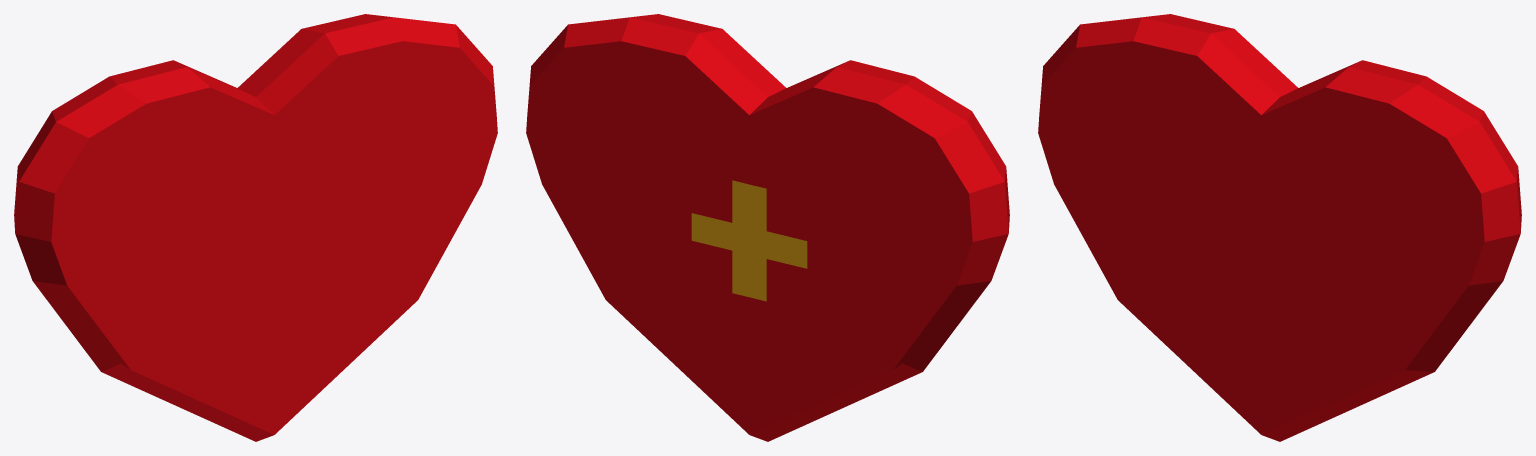
The model's file is Coracao.fbx.
3 renders of one model, left to right at view 1: azimuth 30°, elevation 25°; view 2: azimuth 150°, elevation 25°; view 3: azimuth 330°, elevation 25°, orthographic.
Parts seen in each view (by area): view 1: Cube; view 2: Cube; view 3: Cube.
Boxes of the visible parts, <box> form: Cube: <box>14,14,497,441</box>; Cube: <box>526,14,1009,441</box>; Cube: <box>1038,14,1521,441</box>.
Bounding box in the file's own units: 748 × 582 × 100.
Materials: 1 (1 with a texture image).
